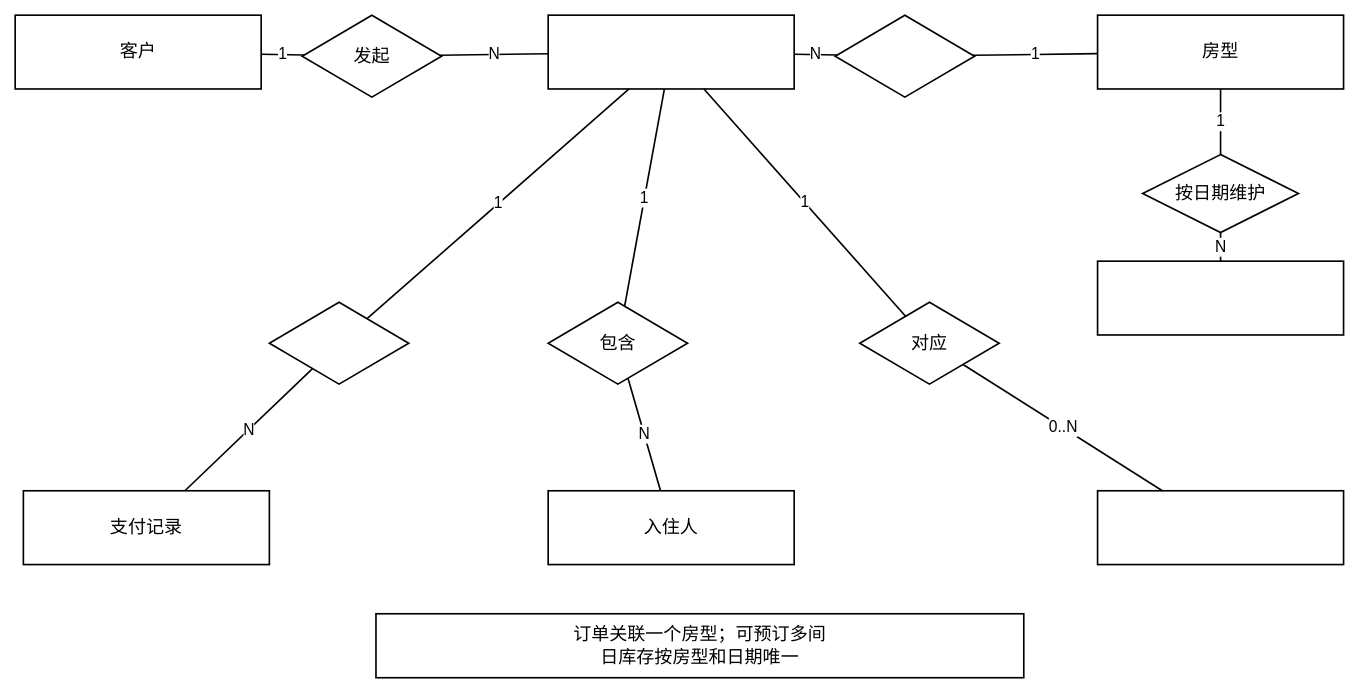
Some shapes in this 1358 by 692 pixel diagram are drawn without their labels. The box of each missing label's shape, as (x1, y1, x2, y2) in pixels:
产生: (268, 301, 409, 385)
房型日库存: (1096, 260, 1344, 335)
退款申请: (1096, 490, 1344, 565)
预订: (834, 14, 975, 98)
预订订单: (547, 14, 795, 89)
